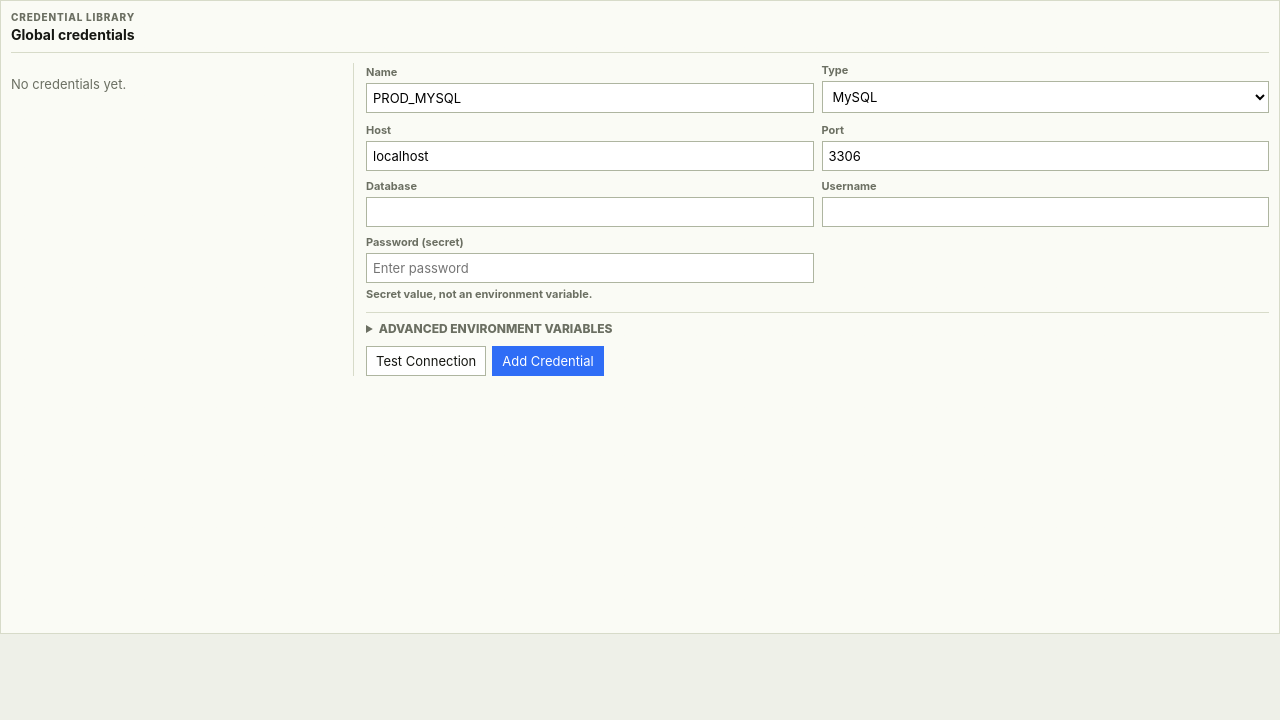
Test: App › tests typed Postgres credentials from the credential page without placeholder variables
Select "Postgres" in the dropdown labelled "Type" at (1045, 97), box [822,81,1269,113]
Replace the text in the field labelled "Host" with "pg.internal" at (590, 156), box [366,141,814,171]
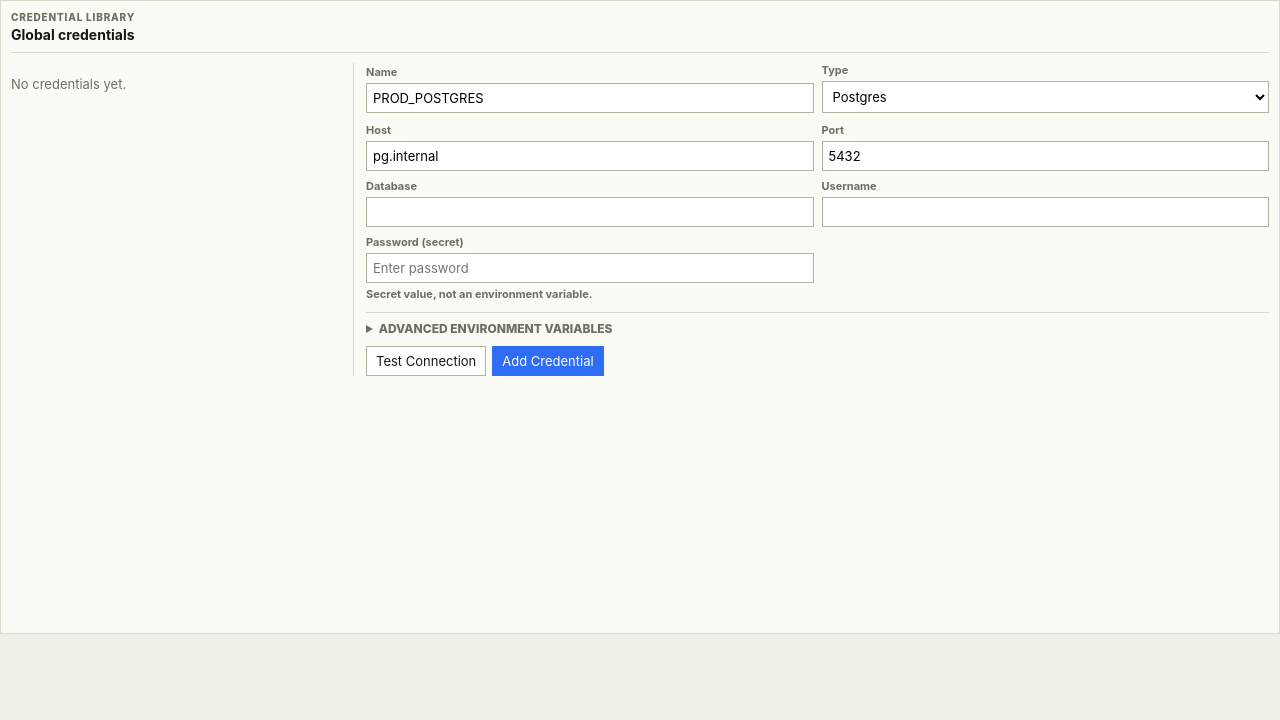
Replace the text in the field labelled "Port" with "5433" at (1045, 156), box [822,141,1269,171]
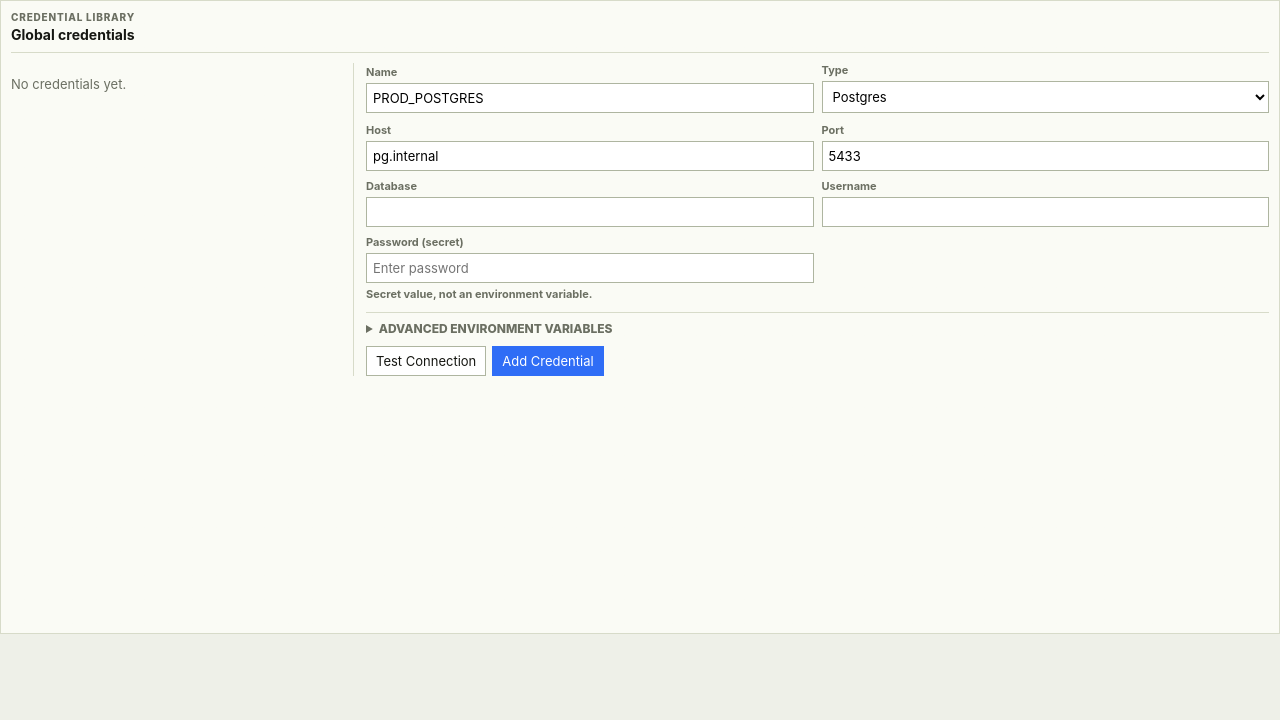
Type "orders" into the field labelled "Database" at (590, 212), box [366,197,814,227]
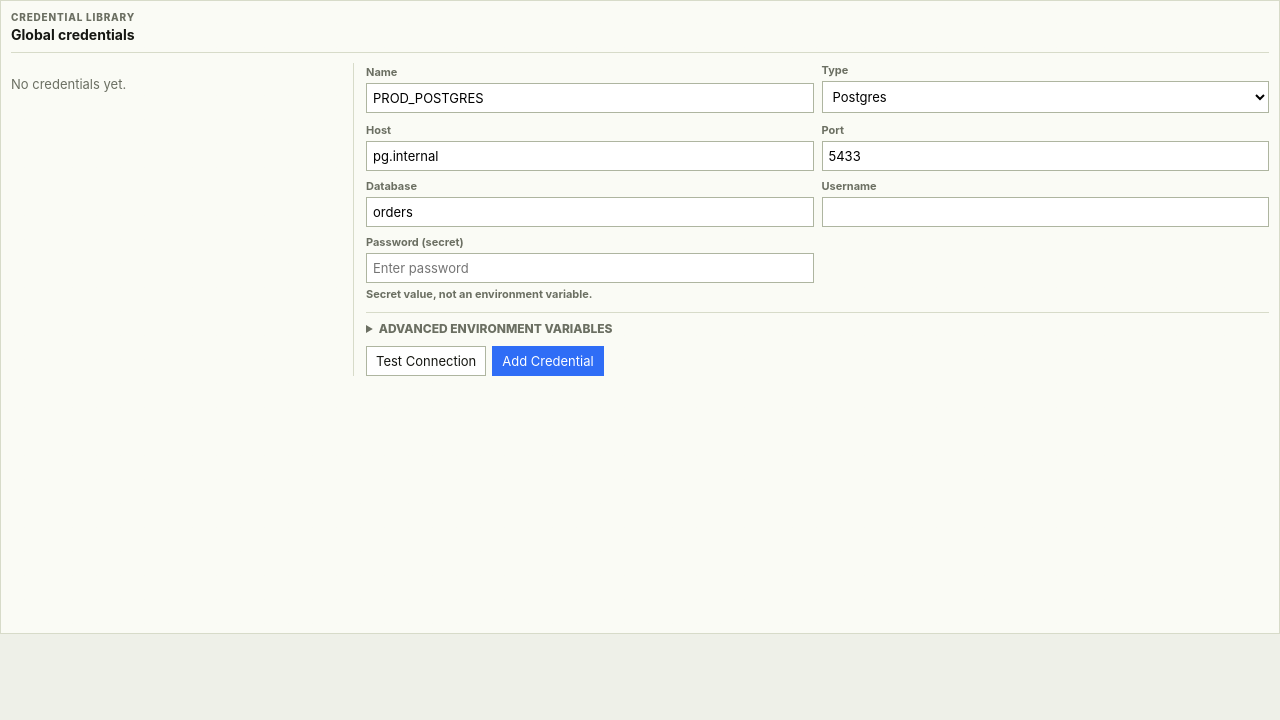
Type "sync" into the field labelled "Username" at (1045, 212), box [822,197,1269,227]
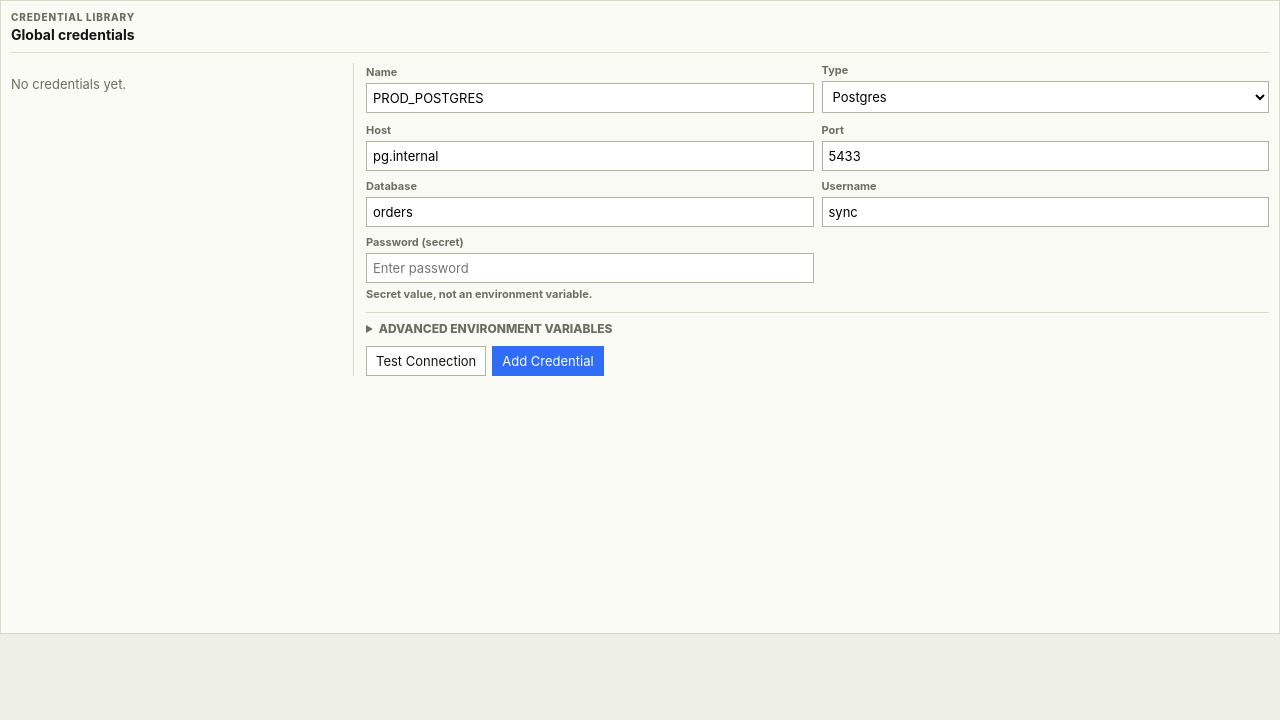
Type "secret" into the password field labelled "Password (secret) Secret value, not an environment variable." at (590, 268), box [366,253,814,283]
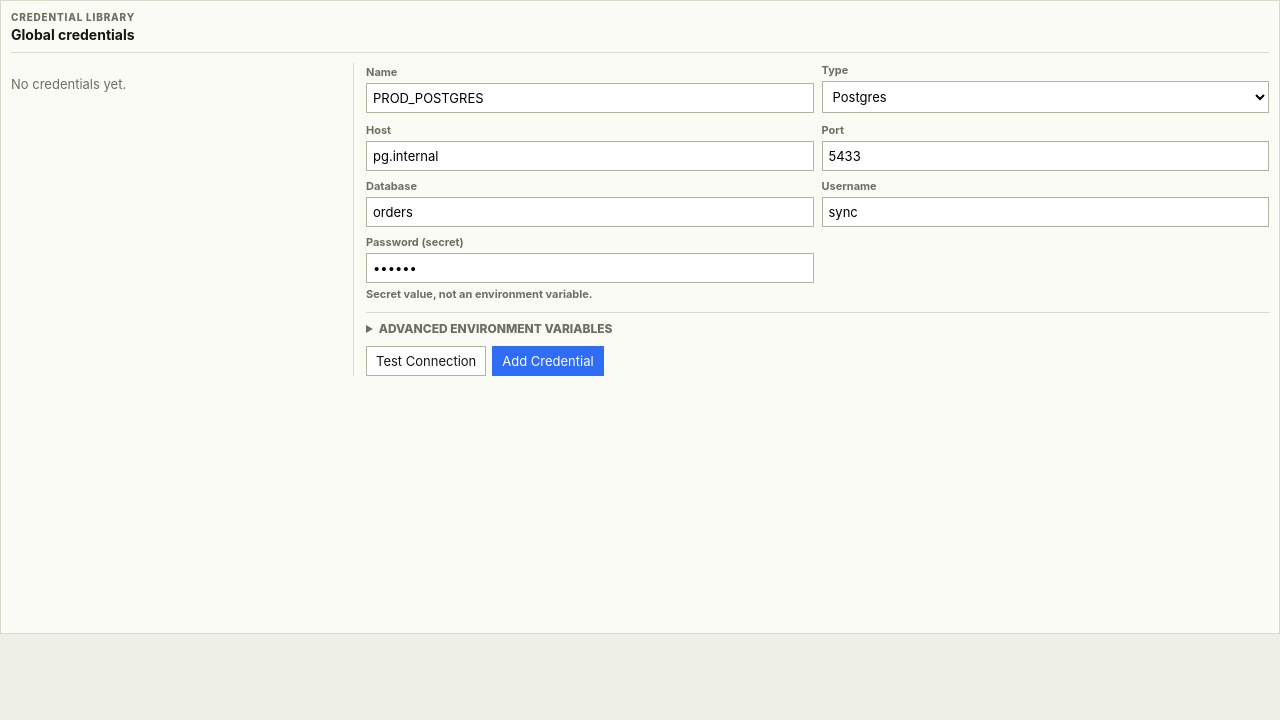
Click the button "Test Connection" at (426, 361), box [366,346,486,376]
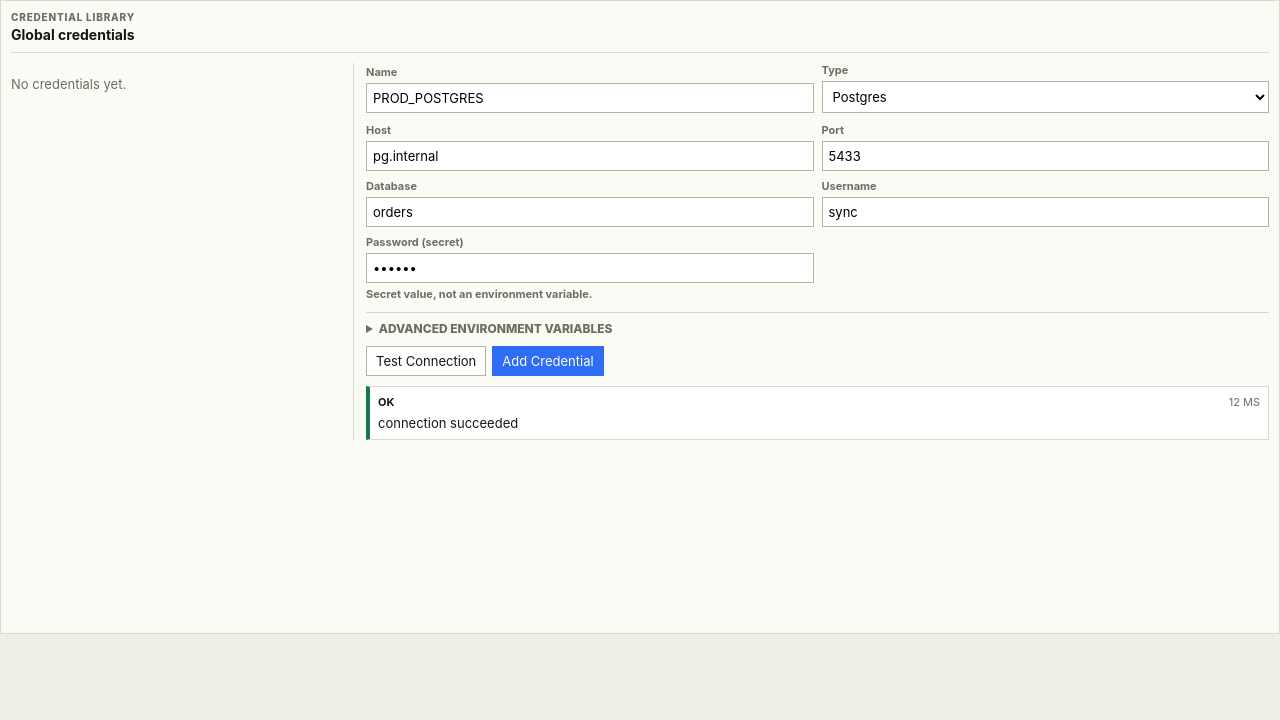
Check: the text "connection succeeded" is shown, box [378,415,518,431]
